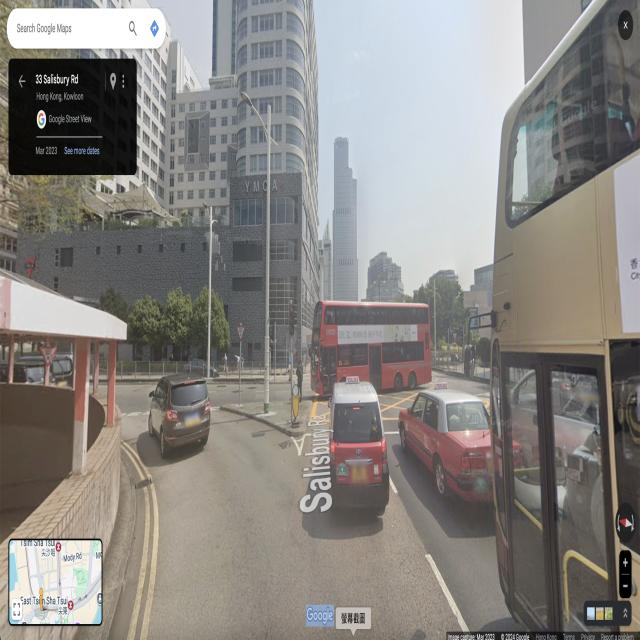Warning-Sign: (38, 345, 58, 369), (236, 326, 246, 342)
